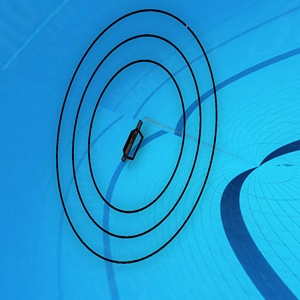circle: (52, 1, 222, 279)
submarine: (120, 119, 147, 162)
